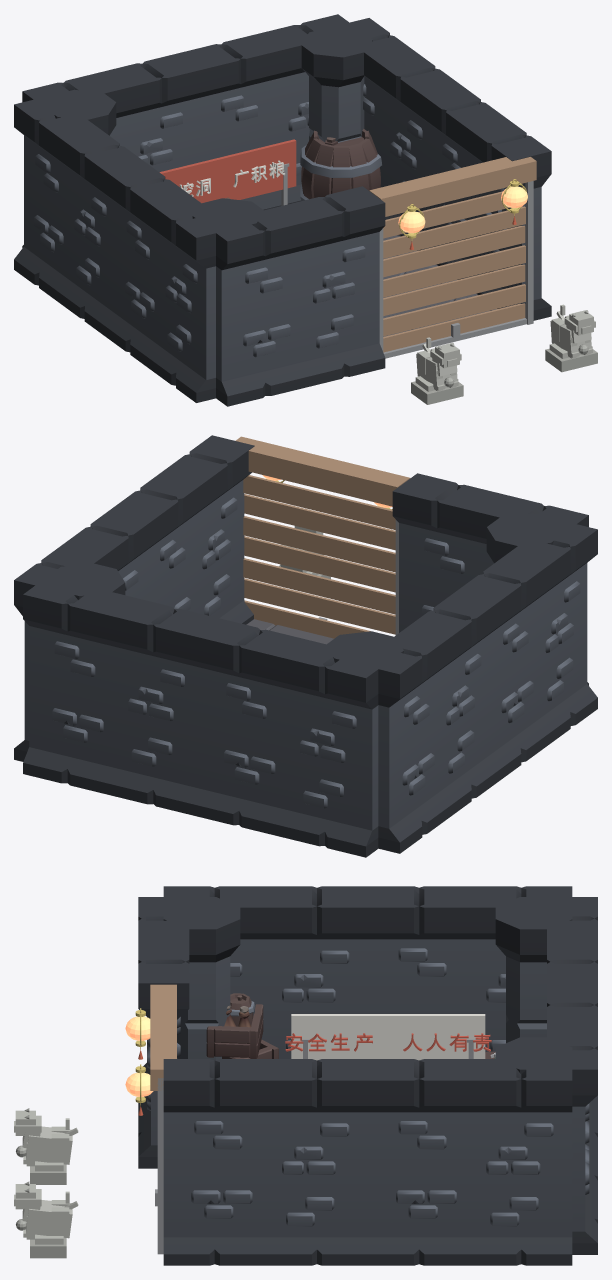
File: zh_gatehouse.glb
The picture shows the model from 3 angles, top to bottom: view 1: azimuth 30°, elevation 25°; view 2: azimuth 150°, elevation 25°; view 3: azimuth 270°, elevation 25°; orthographic projection. The views are drawn at different scales.
Visible parts, largest first — view 1: wall.007, roller_door.001, wall.003, wall.004, wall.002, wall.001, wall.005, wall.006, pillar.002, slogan_tunnel.001, barrel_large.001, stone_lion.001 (+6 smaller); view 2: wall.001, wall.002, roller_door.001, wall.004, wall.003, wall.005, wall.007, wall.006, pillar.003, pillar.001, pillar.002, floor_tile_large.003; view 3: wall.005, wall.006, wall.003, wall.004, slogan_safety.001, wall.002, pillar.003, wall.007, pillar.001, wall.001, roller_door.001, stone_lion.002 (+5 smaller).
Part boxes in pixels (box(x1,y1,x2,y2)): wall.007: box(205, 186, 385, 406); roller_door.001: box(369, 157, 536, 358); wall.003: box(105, 161, 231, 402); wall.004: box(14, 99, 144, 335); wall.002: box(180, 14, 360, 210); wall.001: box(22, 53, 202, 247); wall.005: box(421, 84, 551, 320); wall.006: box(333, 18, 459, 250); pillar.002: box(301, 27, 372, 142); slogan_tunnel.001: box(159, 139, 296, 205); barrel_large.001: box(300, 129, 381, 200); stone_lion.001: box(411, 337, 463, 404); wall.001: box(194, 618, 389, 857); wall.002: box(23, 576, 218, 815); roller_door.001: box(235, 436, 410, 638); wall.004: box(359, 591, 498, 853); wall.003: box(456, 523, 597, 780); wall.005: box(113, 435, 254, 624); wall.007: box(392, 473, 588, 685); wall.006: box(14, 508, 155, 761); pillar.003: box(486, 513, 553, 563); pillar.001: box(327, 631, 403, 664); pillar.002: box(51, 563, 125, 599); floor_tile_large.003: box(246, 619, 333, 644); wall.005: box(163, 1059, 367, 1265); wall.006: box(368, 1059, 572, 1265); wall.003: box(163, 886, 367, 1058); wall.004: box(368, 886, 572, 1052); slogan_safety.001: box(285, 1014, 491, 1060); wall.002: box(547, 983, 597, 1254); pillar.003: box(163, 897, 240, 1060); wall.007: box(138, 897, 189, 1168); pillar.001: box(495, 897, 572, 1042); wall.001: box(547, 897, 597, 1156); roller_door.001: box(150, 984, 176, 1254); stone_lion.002: box(14, 1181, 78, 1258).
Size of the model in its own units: 9 by 4 by 11.43.
Materials: 26 (9 with a texture image).
